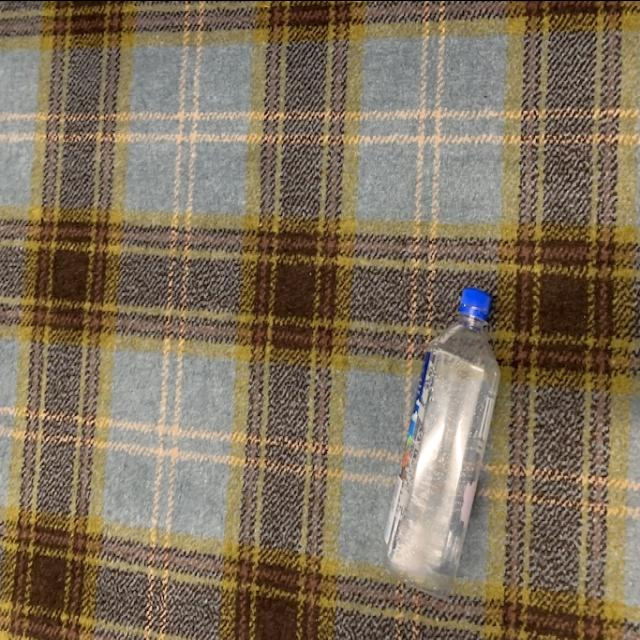PET: (383, 278, 505, 602)
